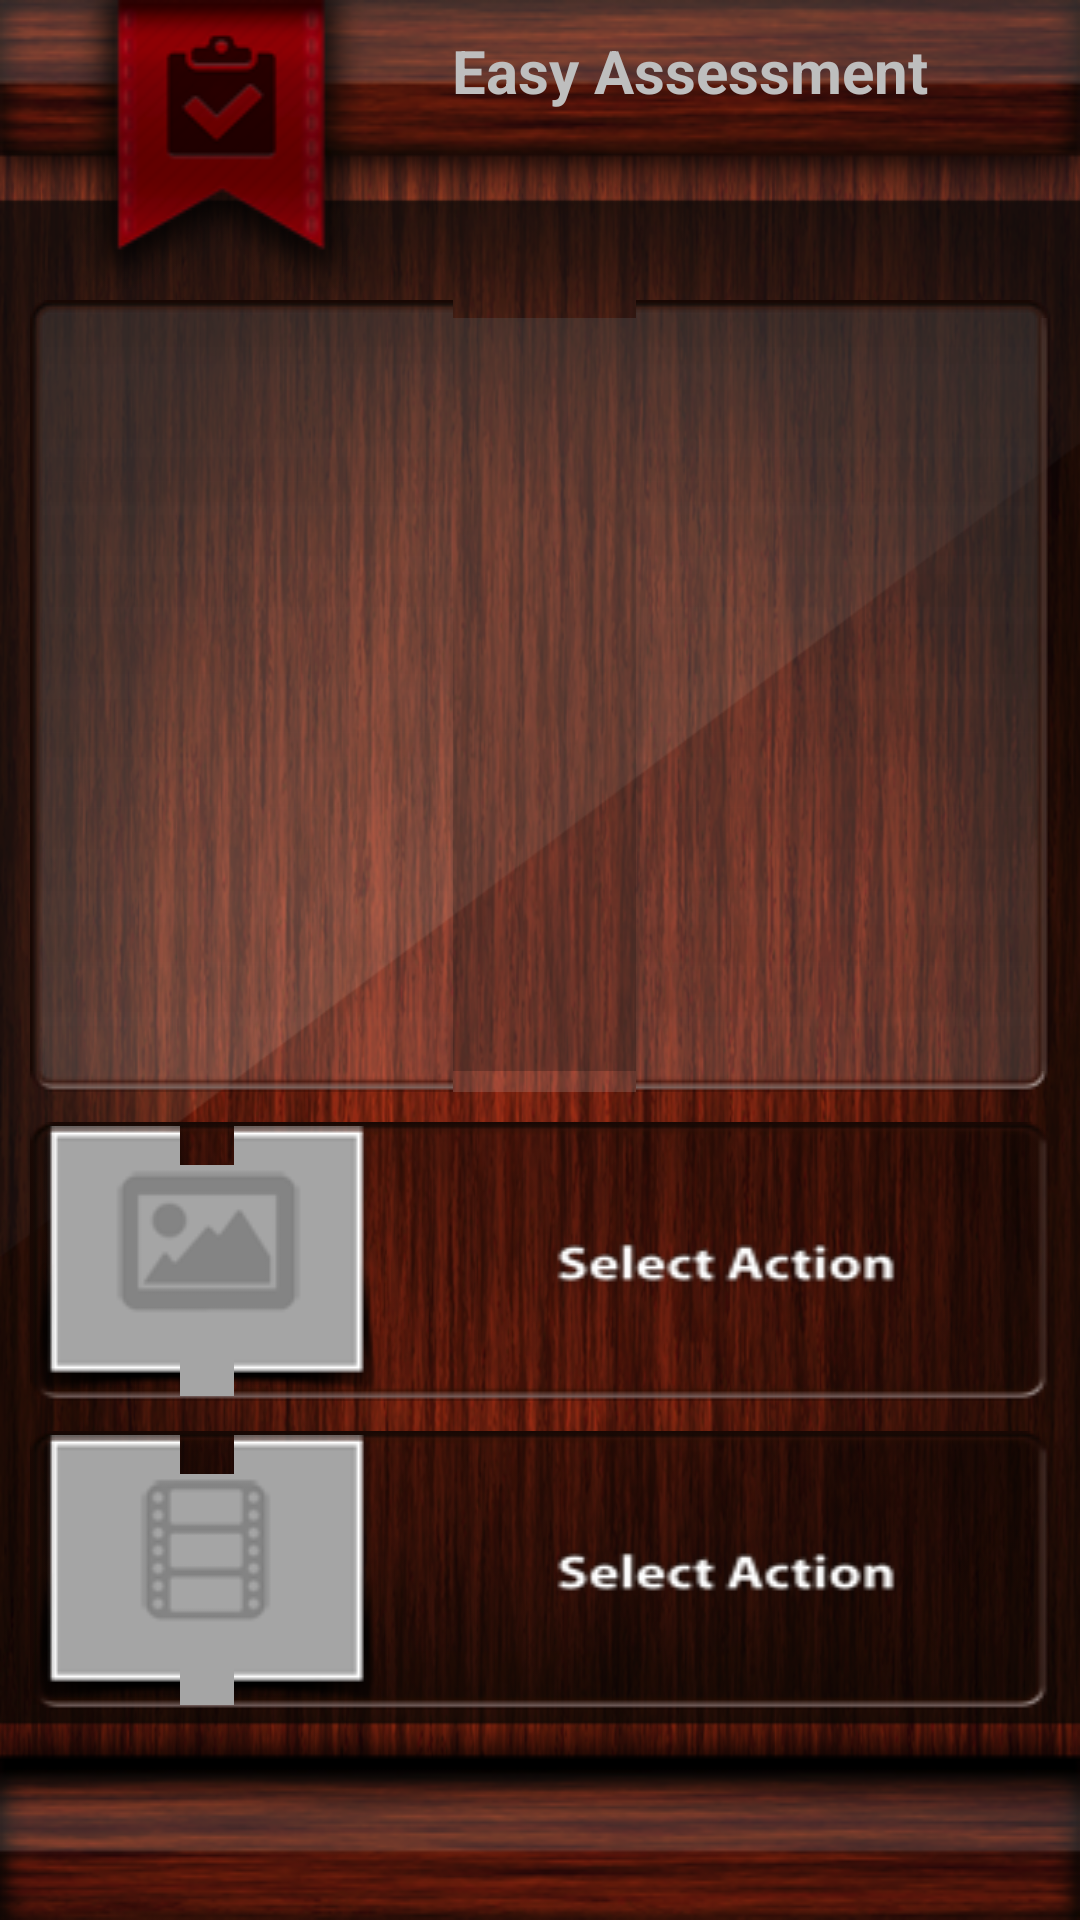

Point at icon controls on the screen. Image size 1080x1920, points as (x=x, y=y).
empty: (x=207, y=1252)
video empty: (x=207, y=1561)
